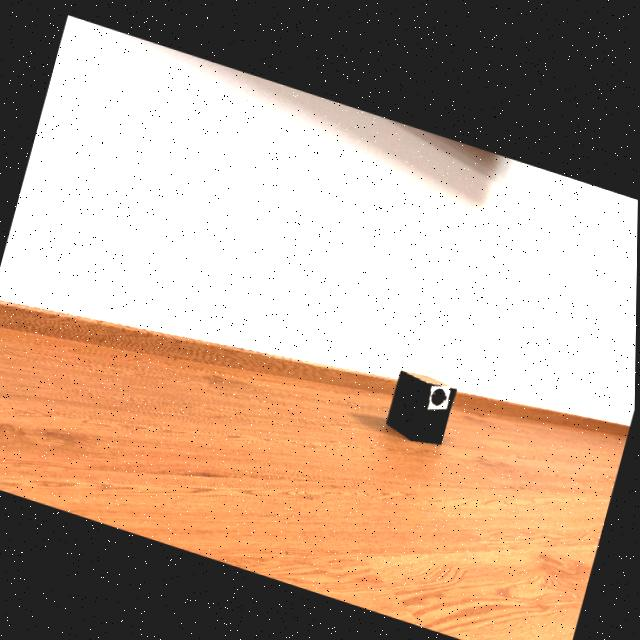CIRCLE: (432, 381, 447, 398)
